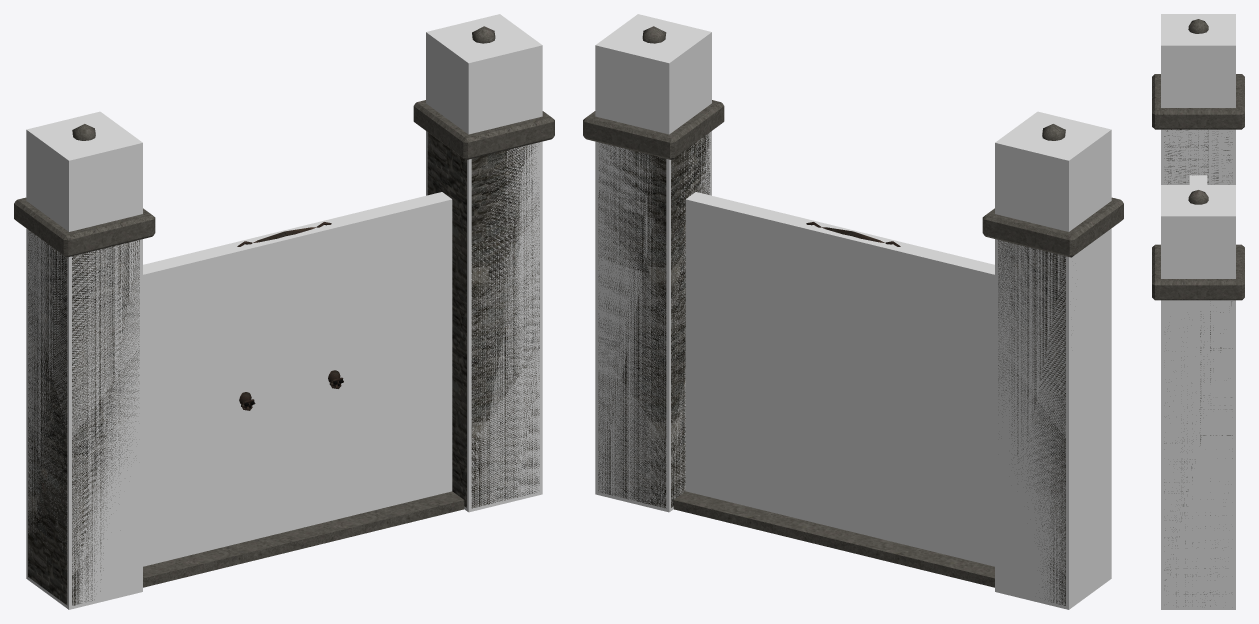
File: iron_gate_gothic_v1.glb
3 renders of one model, left to right at view 1: azimuth 30°, elevation 25°; view 2: azimuth 150°, elevation 25°; view 3: azimuth 270°, elevation 25°, orthographic. The views are drawn at different scales.
Parts seen in each view (by area): view 1: col_gate_closed, piers, col_pier_L, col_pier_R; view 2: col_gate_closed, col_pier_L, piers, col_pier_R; view 3: col_pier_R, col_pier_L, piers, col_gate_closed.
Part boxes in pixels (x1,y1,x2,y2): col_gate_closed: (143, 192, 452, 566); piers: (14, 26, 554, 605); col_pier_L: (26, 111, 142, 609); col_pier_R: (426, 14, 542, 512); col_gate_closed: (685, 192, 994, 566); col_pier_L: (995, 111, 1111, 609); piers: (583, 26, 1123, 605); col_pier_R: (595, 14, 711, 512); col_pier_R: (1161, 185, 1235, 609); col_pier_L: (1161, 14, 1235, 184); piers: (1152, 19, 1244, 606); col_gate_closed: (1189, 175, 1207, 184).
Size of the model in its own units: 3.32 by 2.99 by 0.62.
Materials: 4 (4 with a texture image).
